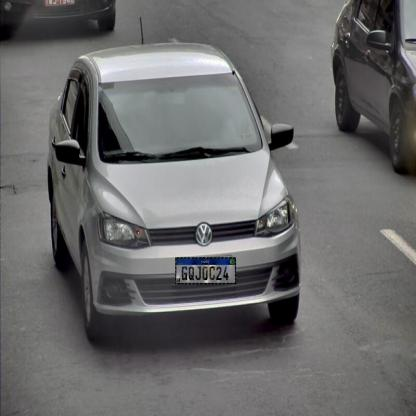PlacaM: (175, 257, 236, 284)
